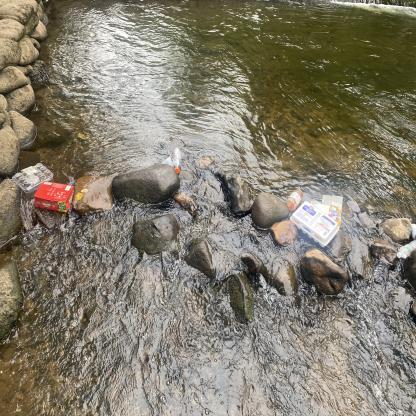trash: (288, 200, 340, 249), (34, 178, 76, 214), (10, 160, 54, 194), (309, 192, 344, 230), (284, 187, 305, 213), (172, 145, 184, 176), (160, 153, 175, 170)
